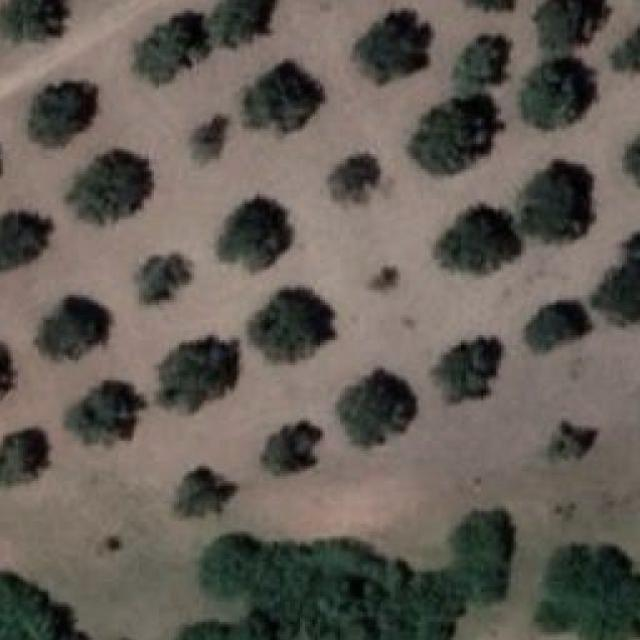Tree: (238, 541, 461, 640), (536, 546, 640, 640), (408, 97, 501, 175), (249, 287, 335, 362), (64, 149, 149, 224), (336, 368, 416, 447), (432, 204, 521, 275), (518, 159, 594, 242), (448, 508, 513, 604), (1, 571, 89, 640), (351, 11, 431, 85), (244, 61, 325, 134), (216, 197, 292, 274), (158, 340, 236, 414), (137, 8, 206, 85), (64, 380, 146, 444), (520, 61, 594, 130), (32, 298, 106, 361), (431, 337, 501, 403), (195, 526, 260, 596), (592, 232, 640, 324), (27, 81, 94, 145), (536, 0, 609, 54), (453, 35, 511, 96), (523, 302, 592, 352), (204, 0, 275, 46), (178, 469, 240, 520), (261, 421, 317, 474), (135, 252, 191, 304), (0, 216, 52, 270), (0, 0, 67, 40), (2, 431, 48, 487), (329, 154, 380, 202), (548, 421, 597, 461), (608, 26, 640, 79), (192, 117, 228, 164), (174, 617, 235, 640), (623, 133, 640, 192), (0, 343, 16, 401), (366, 268, 396, 290), (463, 0, 514, 10)
